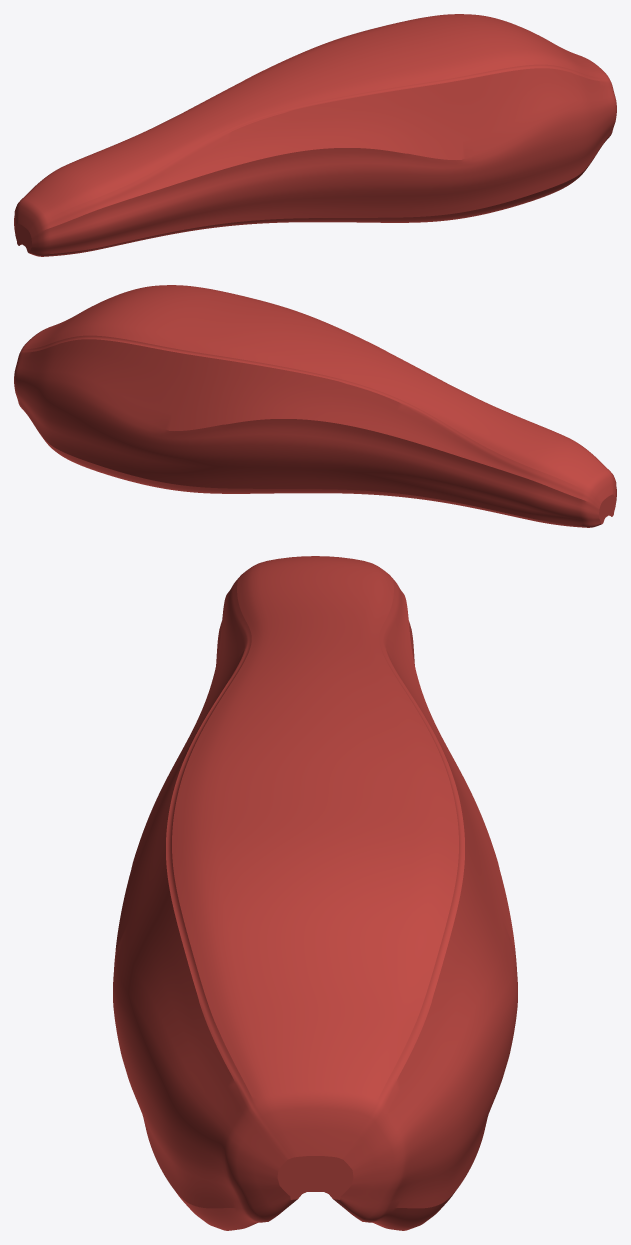
The model's file is cruiser_5.glb.
The picture shows the model from 3 angles, top to bottom: view 1: azimuth 30°, elevation 25°; view 2: azimuth 150°, elevation 25°; view 3: azimuth 270°, elevation 25°; orthographic projection. The views are drawn at different scales.
Visible parts, largest first — view 1: cruiser_5; view 2: cruiser_5; view 3: cruiser_5.
Part boxes in pixels (x1,y1,x2,y2): cruiser_5: [14, 14, 616, 256]; cruiser_5: [14, 285, 616, 527]; cruiser_5: [113, 556, 517, 1230].
Size of the model in its own units: 1.06 by 0.2779 by 0.3227.
